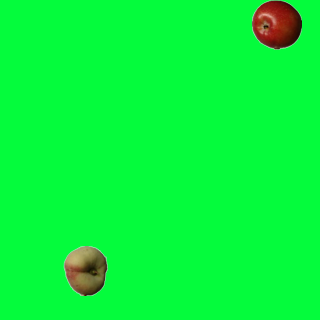Apple Braeburn: (251, 0, 301, 49)
Peach Flat: (60, 245, 110, 295)
